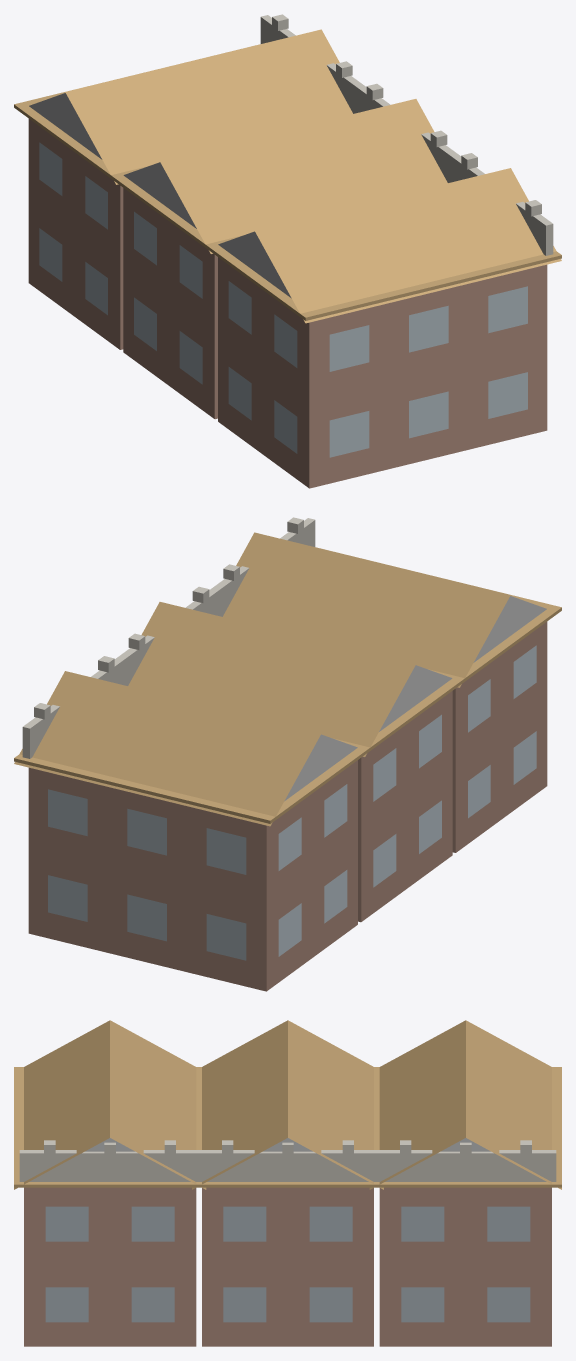
File: 10_traditional_houses-09.glb
3 renders of one model, top to bottom at view 1: azimuth 30°, elevation 25°; view 2: azimuth 150°, elevation 25°; view 3: azimuth 270°, elevation 25°, orthographic. The views are drawn at different scales.
Size of the model in its own units: 9.7 by 8.2 by 19.1.
